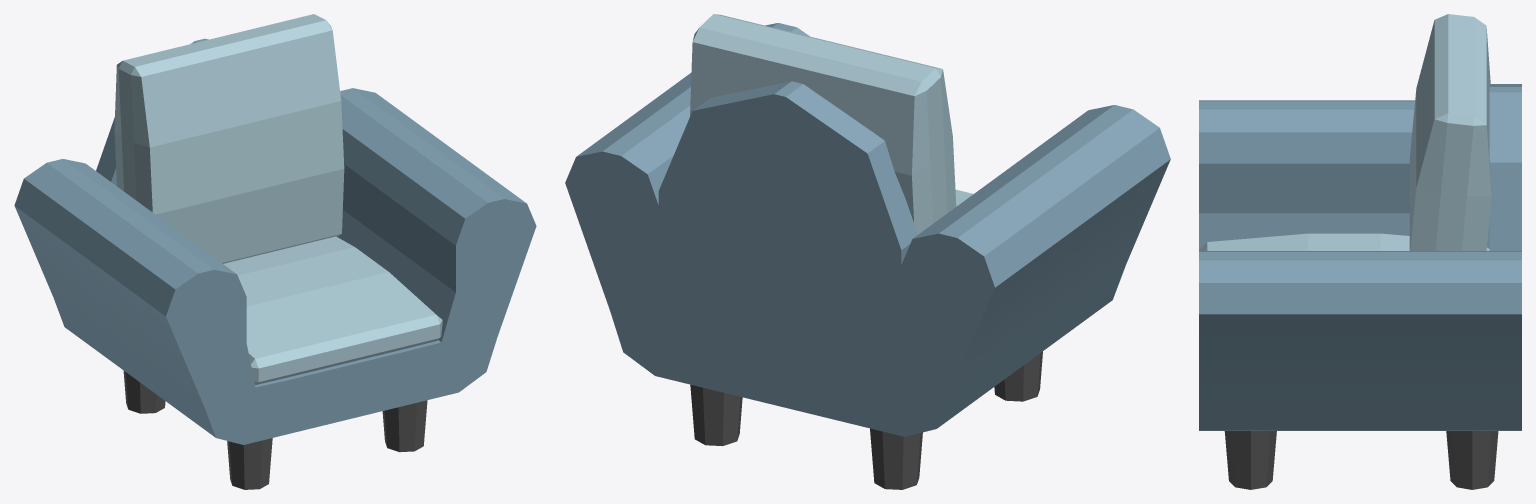
The model's file is Chair_Armchair_3_231109.glb.
3 renders of one model, left to right at view 1: azimuth 30°, elevation 25°; view 2: azimuth 150°, elevation 25°; view 3: azimuth 270°, elevation 25°, orthographic. The views are drawn at different scales.
Parts seen in each view (by area): view 1: Armchair_3; view 2: Armchair_3; view 3: Armchair_3.
Part boxes in pixels (bbox=[...]): Armchair_3: bbox=[14, 14, 536, 489]; Armchair_3: bbox=[565, 14, 1170, 489]; Armchair_3: bbox=[1199, 14, 1521, 489].
Size of the model in its own units: 1.39 by 1.26 by 0.9854.
1 material, 1 textured.
